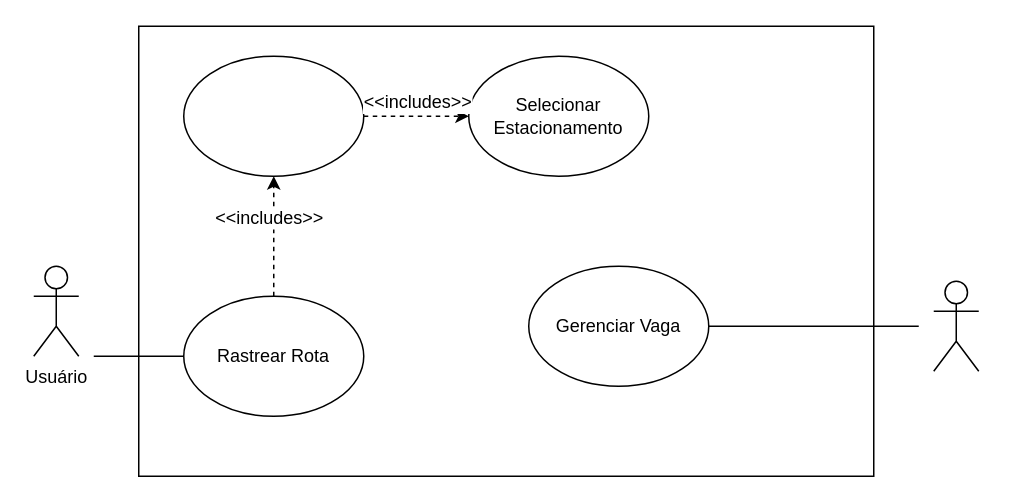
Some shapes in this 1014 by 503 pixel diagram are drawn without their labels. The shapes that lost their labels are listed below. From the top down, each one's centre as x and y in pixels, then its label:
At point 273,115: "Selecionar Vaga".
At point 955,325: "Sistema".
